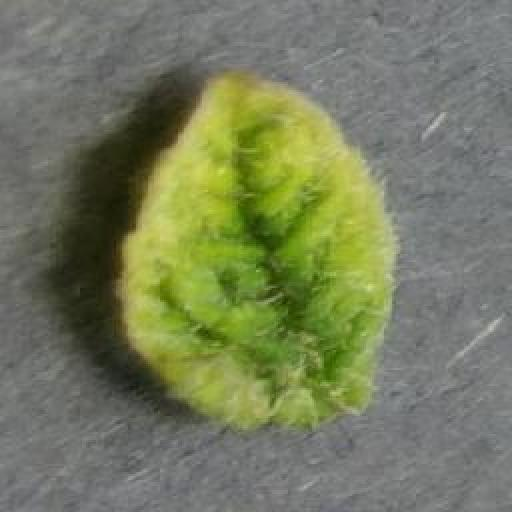Yellow Leaf Curl Virus: (112, 68, 399, 433)
